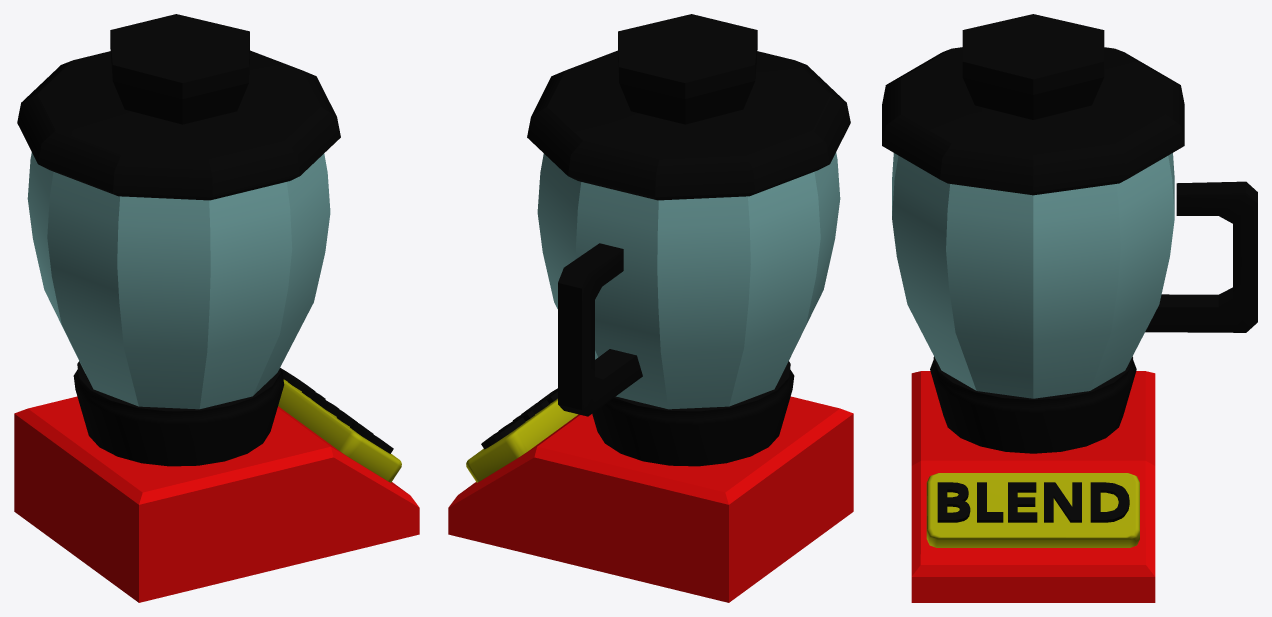
Rendered from BlenderFBX.fbx.
3 views of the same model, side by side, from view 1: azimuth 30°, elevation 25°; view 2: azimuth 150°, elevation 25°; view 3: azimuth 270°, elevation 25° (orthographic). The views are drawn at different scales.
Visible parts, largest first — view 1: polySurface9, polySurface1, polySurface10, polySurface2, polySurface3, polySurface7; view 2: polySurface9, polySurface1, polySurface10, polySurface2, polySurface11, polySurface3, polySurface7; view 3: polySurface9, polySurface10, polySurface1, polySurface3, polySurface2, polySurface11, polySurface7.
Part boxes in pixels (bbox=[...]): polySurface9: bbox=[27, 152, 330, 409]; polySurface1: bbox=[14, 396, 419, 602]; polySurface10: bbox=[17, 14, 340, 200]; polySurface2: bbox=[73, 361, 284, 466]; polySurface3: bbox=[278, 379, 401, 482]; polySurface7: bbox=[280, 368, 393, 453]; polySurface9: bbox=[537, 152, 840, 409]; polySurface1: bbox=[448, 396, 853, 602]; polySurface10: bbox=[527, 14, 850, 200]; polySurface2: bbox=[592, 361, 794, 466]; polySurface11: bbox=[558, 243, 642, 416]; polySurface3: bbox=[466, 398, 577, 482]; polySurface7: bbox=[481, 388, 557, 449]; polySurface9: bbox=[892, 153, 1174, 398]; polySurface10: bbox=[882, 14, 1184, 195]; polySurface1: bbox=[911, 371, 1155, 602]; polySurface3: bbox=[926, 473, 1139, 547]; polySurface2: bbox=[930, 356, 1136, 453]; polySurface11: bbox=[1145, 181, 1257, 332]; polySurface7: bbox=[937, 482, 1129, 522].
Bounding box in the file's own units: 6.02 × 8.71 × 6.28.
